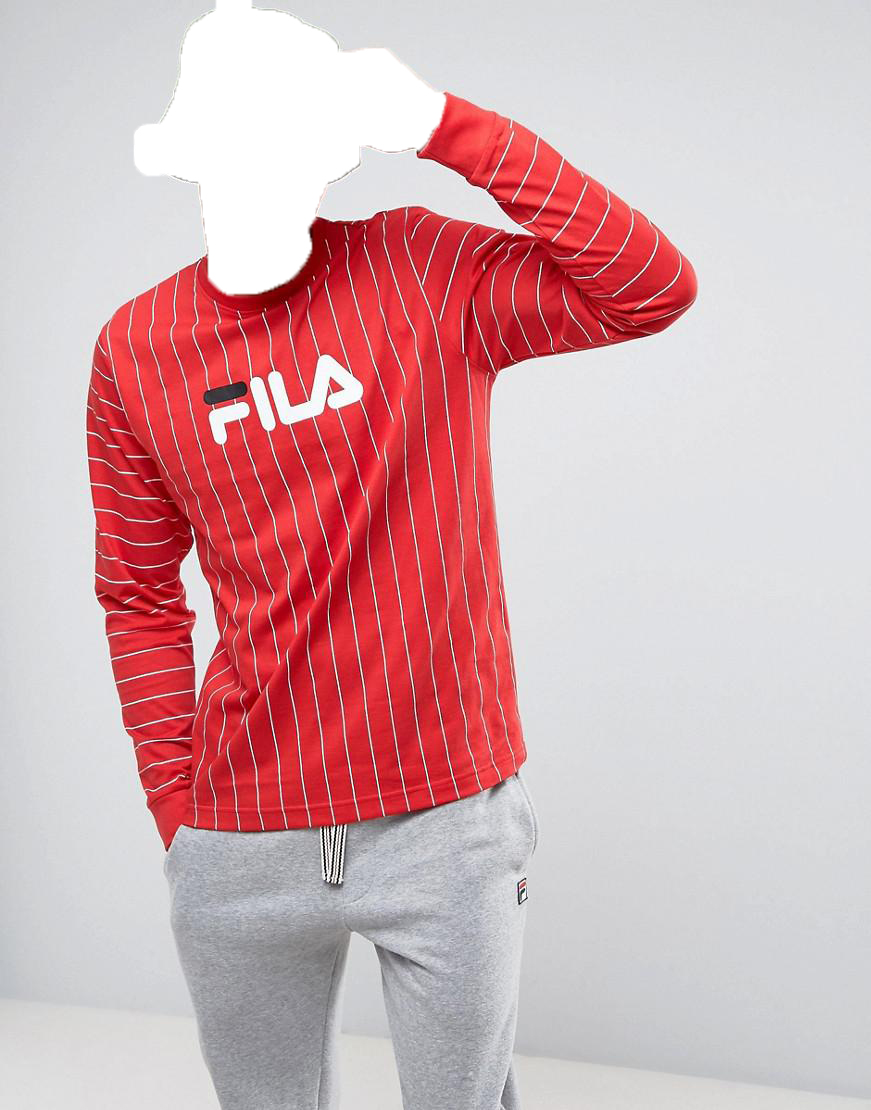teeshirt: (51, 93, 696, 840)
